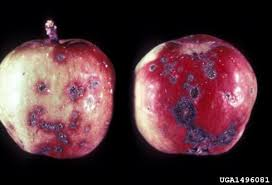damaged_apple: (135, 36, 259, 161), (3, 41, 118, 163)
